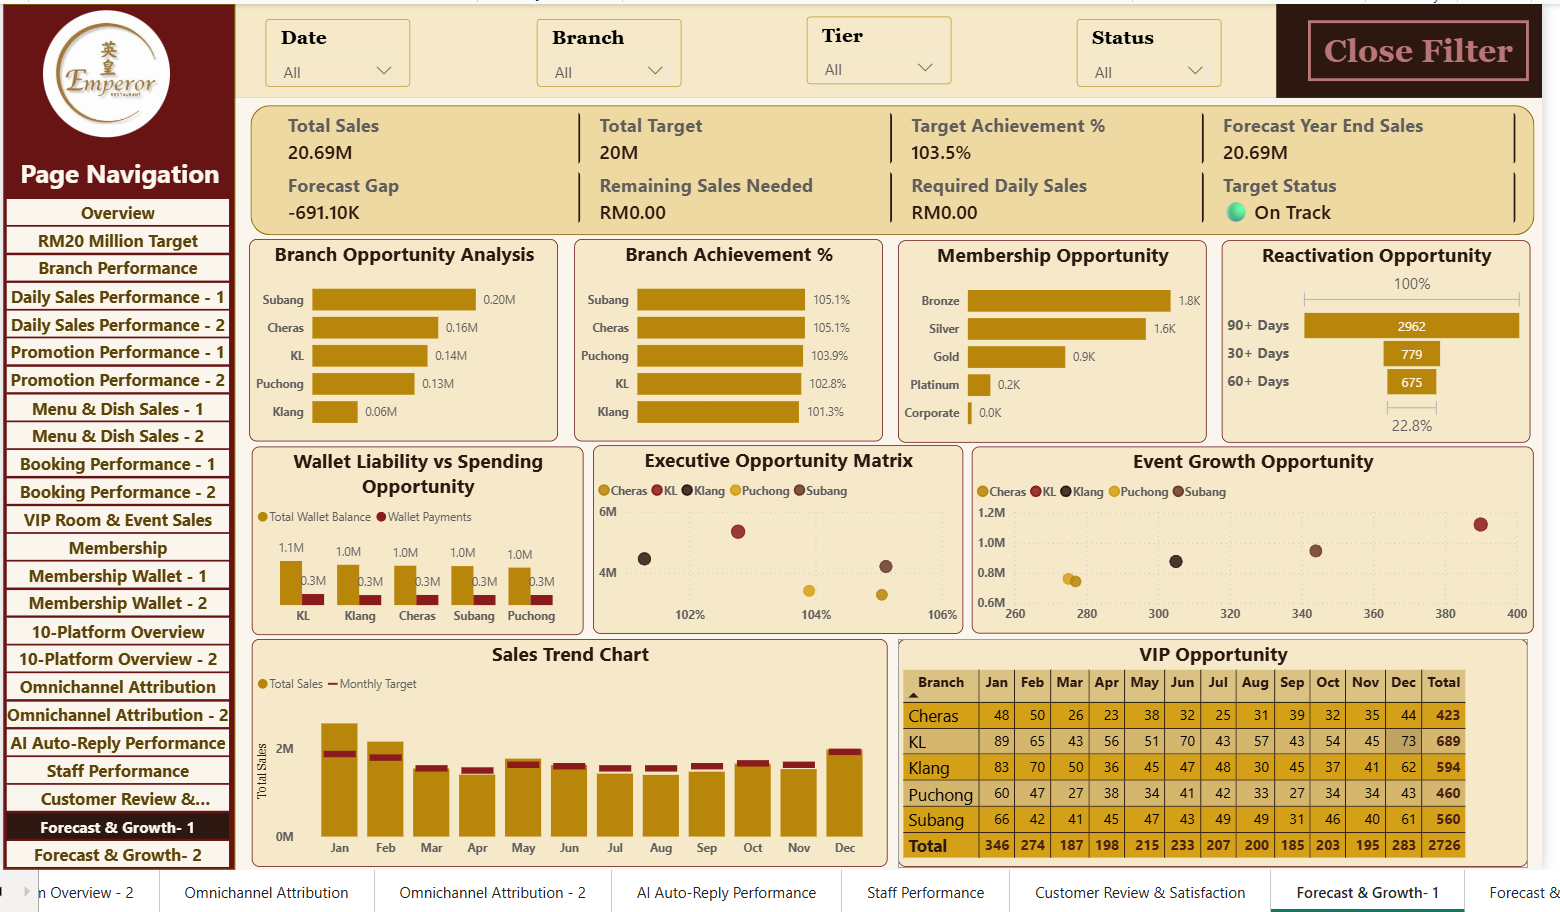

The page's visual inventory and layout, read from the dashboard file:
{"tool":"powerbi","page":{"name":"Forecast & Growth- 1","canvas":[1600,900],"ordinal":22},"visuals":[{"type":"clusteredBarChart","title":"Branch Opportunity Analysis","fields":{"Category":["Dim_Branch.BranchName"],"Y":["__DAX_Measures.Branch Gap"]},"box":[256.5,244.5,321,210],"z":0},{"type":"clusteredBarChart","title":"Branch Achievement %","fields":{"Category":["Dim_Branch.BranchName"],"Y":["__DAX_Measures.Branch Achievement %"]},"box":[593.2,244.5,320.6,210],"z":1000},{"type":"funnel","title":"Reactivation Opportunity","fields":{"Category":["Dim_Customer.Reactivation Bucket"],"Y":["__DAX_Measures.Customers Count"]},"box":[1266,246.1,320.6,210],"z":2000},{"type":"pivotTable","title":"VIP Opportunity","fields":{"Columns":["Dim_Date.MonthShort"],"Rows":["Dim_Branch.BranchName"],"Values":["__DAX_Measures.VIP Bookings"]},"box":[930.3,660.4,654.3,236.7],"z":3000},{"type":"scatterChart","title":"Event Growth Opportunity","fields":{"Series":["Dim_Branch.BranchName"],"Size":["__DAX_Measures.Total Sales"],"X":["__DAX_Measures.Event Bookings"],"Y":["__DAX_Measures.Event Revenue"]},"box":[1007.4,460.3,583.6,194],"z":4000},{"type":"scatterChart","title":"Executive Opportunity Matrix","fields":{"Series":["Dim_Branch.BranchName"],"Size":["__DAX_Measures.Total Sales"],"X":["__DAX_Measures.Branch Achievement %"],"Y":["__DAX_Measures.Total Sales"]},"box":[612.8,458.7,384.7,195.6],"z":5000},{"type":"clusteredColumnChart","title":"Wallet Liability vs Spending Opportunity","fields":{"Category":["Dim_Branch.BranchName"],"Y":["__DAX_Measures.Total Wallet Balance","__DAX_Measures.Wallet Payments"]},"box":[259.1,459.4,344.5,196.2],"z":6000},{"type":"barChart","title":"Membership Opportunity","fields":{"Category":["Dim_Customer.Tier"],"Y":["__DAX_Measures.Inactive Members 2"]},"box":[929.6,246.1,320.6,210],"z":7000},{"type":"shape","box":[0,0,241.3,899.7],"z":8000},{"type":"shape","box":[257.3,104.7,1334.3,135],"z":9000},{"type":"cardVisual","fields":{"Data":["__DAX_Measures.Total Sales","__DAX_Measures.Annual Target","__DAX_Measures.Target Achievement %","__DAX_Measures.Forecast Year End Sales","__DAX_Measures.Forecast Gap","__DAX_Measures.Remaining Sales Needed","__DAX_Measures.Required Daily Sales","__DAX_Measures.Target Status"]},"box":[273.3,101.7,1314,138.1],"z":10000},{"type":"lineClusteredColumnComboChart","title":"Sales Trend Chart","fields":{"Category":["Dim_Date.MonthShort"],"Y":["__DAX_Measures.Total Sales"],"Y2":["__DAX_Measures.Monthly Target"]},"box":[257.9,660.4,660.9,236.7],"z":11000},{"type":"textbox","box":[241.3,0,1359,97.4],"z":12000},{"type":"shape","box":[241.3,0,1081.4,97.4],"z":13000},{"type":"actionButton","title":"Close Filter","box":[1355.6,16.3,229.6,63.3],"z":14000},{"type":"slicer","fields":{"Values":["Dim_Date.Date"]},"box":[273.2,15.3,150,70],"z":16000},{"type":"slicer","fields":{"Values":["Dim_Branch.BranchName"]},"box":[554.2,15.3,150,70],"z":17000},{"type":"slicer","fields":{"Values":["Dim_Customer.Tier"]},"box":[835.1,12.9,150,70],"z":18000},{"type":"slicer","fields":{"Values":["Dim_Customer.Status"]},"box":[1116,16,150,70],"z":19000},{"type":"pageNavigator","box":[4.4,202.3,231.1,697.7],"z":20000},{"type":"textbox","box":[0,152.6,242.7,46.5],"z":21000},{"type":"image","box":[41.9,6.2,131.9,131.9],"z":22000}]}

Visuals, with their boxes on the page's 1600x900 design canvas (x1, y1, x2, y2). These are canvas units, not pixel positions in the 1560x912 screenshot, which may show the page scaled, cropped or inside an application window:
"Branch Opportunity Analysis" clusteredBarChart: Rect(256, 244, 578, 454)
"Branch Achievement %" clusteredBarChart: Rect(593, 244, 914, 454)
"Reactivation Opportunity" funnel: Rect(1266, 246, 1587, 456)
"VIP Opportunity" pivotTable: Rect(930, 660, 1585, 897)
"Event Growth Opportunity" scatterChart: Rect(1007, 460, 1591, 654)
"Executive Opportunity Matrix" scatterChart: Rect(613, 459, 998, 654)
"Wallet Liability vs Spending Opportunity" clusteredColumnChart: Rect(259, 459, 604, 656)
"Membership Opportunity" barChart: Rect(930, 246, 1250, 456)
shape: Rect(0, 0, 241, 900)
shape: Rect(257, 105, 1592, 240)
cardVisual - __DAX_Measures.Total Sales x __DAX_Measures.Annual Target: Rect(273, 102, 1587, 240)
"Sales Trend Chart" lineClusteredColumnComboChart: Rect(258, 660, 919, 897)
textbox: Rect(241, 0, 1600, 97)
shape: Rect(241, 0, 1323, 97)
"Close Filter" actionButton: Rect(1356, 16, 1585, 80)
slicer - Dim_Date.Date: Rect(273, 15, 423, 85)
slicer - Dim_Branch.BranchName: Rect(554, 15, 704, 85)
slicer - Dim_Customer.Tier: Rect(835, 13, 985, 83)
slicer - Dim_Customer.Status: Rect(1116, 16, 1266, 86)
pageNavigator: Rect(4, 202, 236, 900)
textbox: Rect(0, 153, 243, 199)
image: Rect(42, 6, 174, 138)
